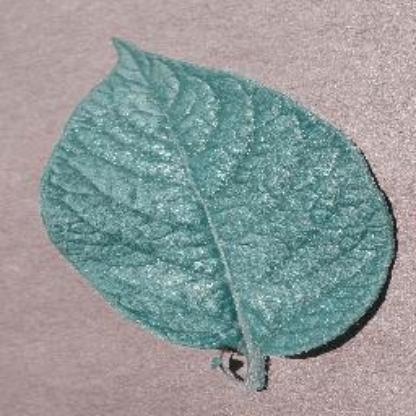Healthy-plant: (32, 33, 408, 391)
